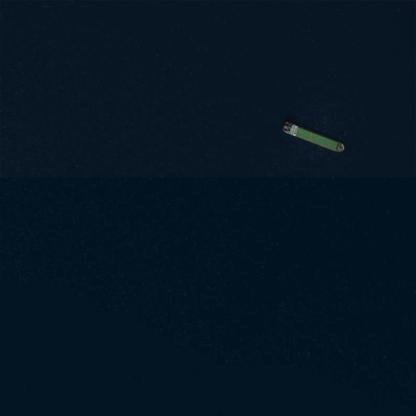ship: (272, 116, 348, 155)
